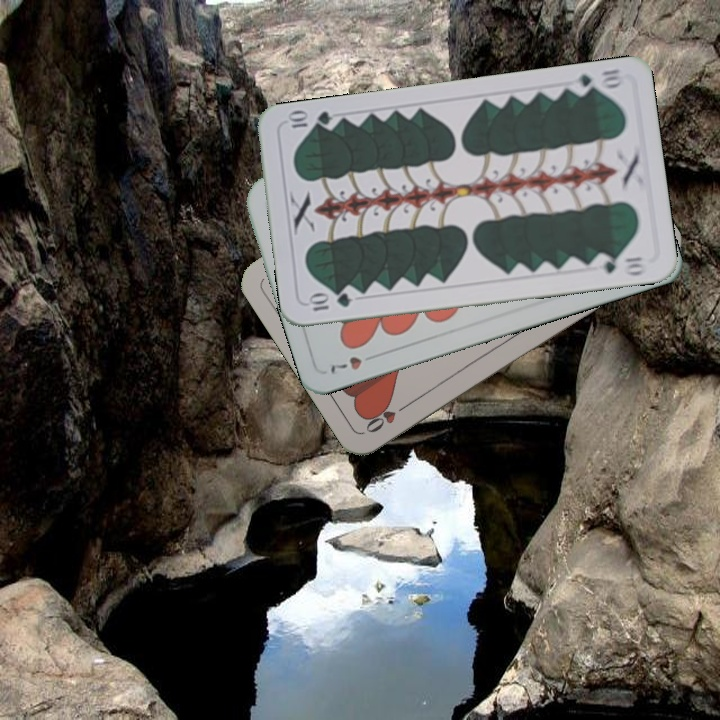G10: (567, 64, 627, 98), (304, 289, 354, 314)
H7: (326, 350, 381, 377)
HO: (361, 398, 414, 436)
